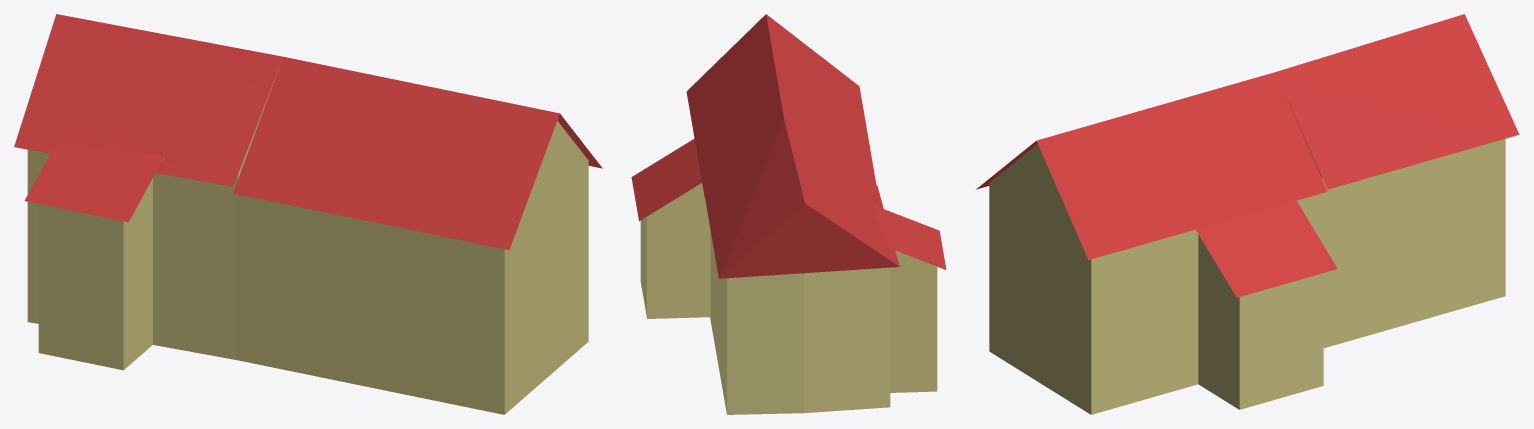
3 renders of one model, left to right at view 1: azimuth 30°, elevation 25°; view 2: azimuth 150°, elevation 25°; view 3: azimuth 270°, elevation 25°, orthographic. The views are drawn at different scales.
Bounding box in the file's own units: 24.12 × 26.88 × 13.51.
